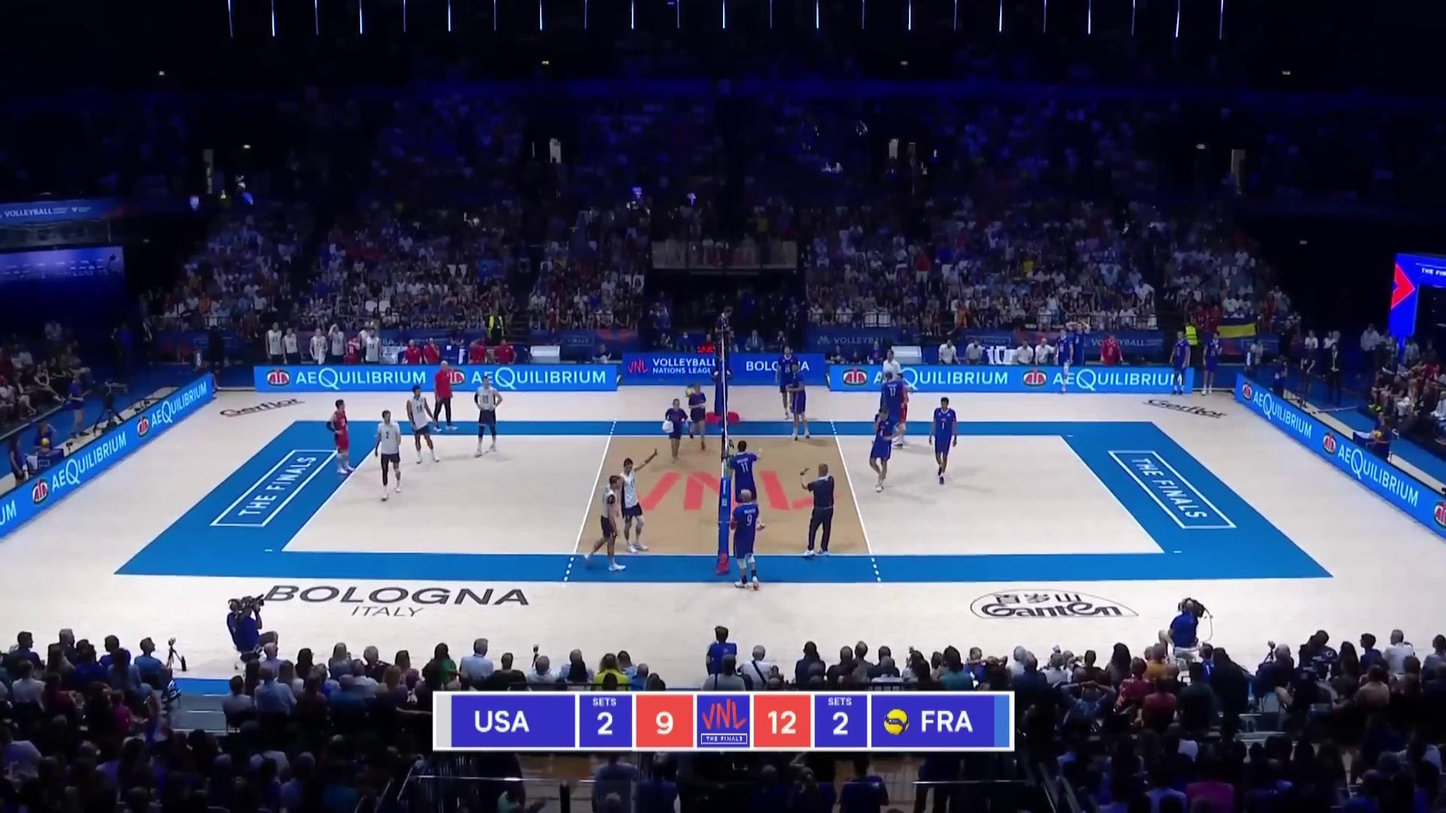player: (584, 472, 631, 572), (729, 488, 765, 592), (728, 439, 762, 531), (617, 459, 648, 556), (375, 410, 407, 499), (405, 385, 439, 464), (930, 397, 959, 485), (869, 406, 898, 491), (474, 378, 502, 456), (785, 360, 811, 439), (328, 402, 350, 478), (882, 373, 903, 446), (892, 373, 908, 450)
refree: (800, 461, 836, 558), (712, 309, 733, 378)
